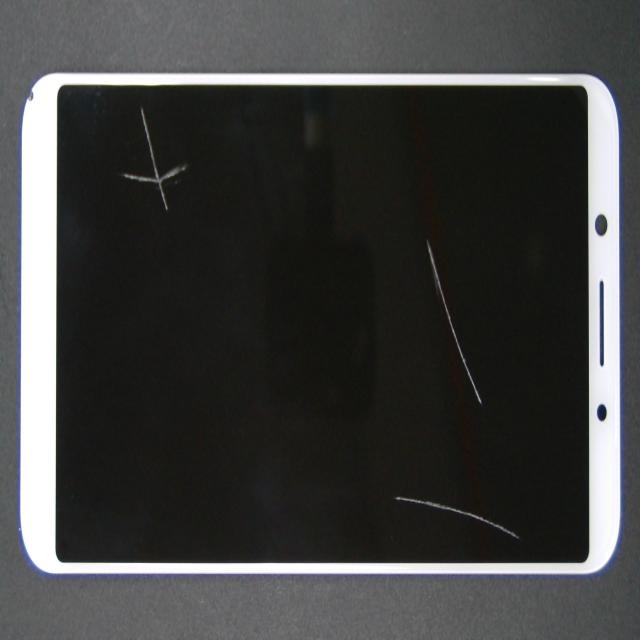scratch: (337, 289, 640, 640), (278, 304, 640, 529), (69, 85, 239, 326)
